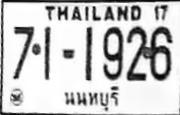1: (84, 26, 92, 80), (44, 26, 50, 80)
2: (126, 26, 149, 80)
6: (148, 26, 172, 80)
7: (12, 25, 34, 80)
9: (102, 26, 123, 80)
NBI: (64, 84, 120, 111)
